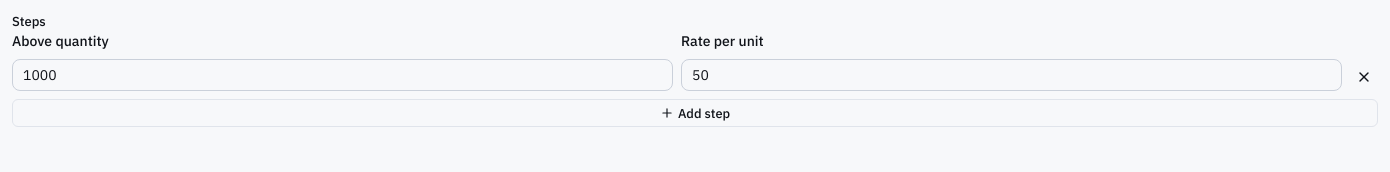
CapacityMotivationStepsEditor › removing the last row is refused with a field-level message, the control stays enabled
This screenshot has width=1390, height=172.
Expected: the text "At least one step is required." is not shown
Click the button named "Remove step 1". click: [1364, 77]
box: [1350,63,1378,91]
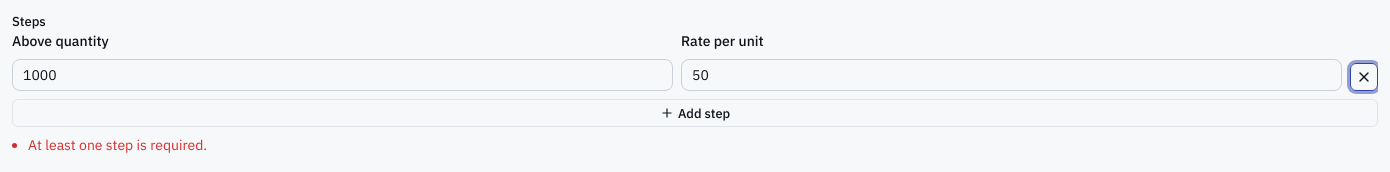
Result: the list item "At least one step is required." is shown at [28,136,207,154]
